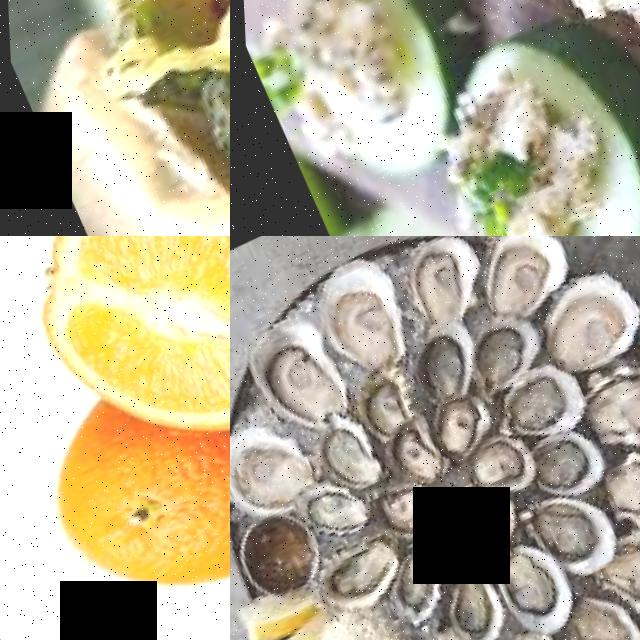orange: (0, 236, 230, 424), (37, 418, 230, 640)
oysters: (234, 305, 351, 442), (300, 252, 416, 388), (530, 260, 640, 384), (514, 479, 617, 601), (388, 236, 497, 335), (230, 421, 319, 534), (306, 531, 405, 626), (482, 540, 576, 640), (466, 236, 574, 322), (487, 365, 583, 459), (398, 318, 486, 411), (457, 312, 548, 398), (574, 355, 640, 471), (344, 359, 424, 448), (306, 415, 383, 504), (522, 429, 604, 510), (448, 482, 522, 566), (290, 477, 367, 553), (431, 565, 509, 640), (380, 421, 449, 500), (363, 477, 436, 551), (422, 396, 495, 469), (403, 518, 474, 591), (466, 436, 537, 508), (462, 436, 534, 507), (599, 448, 640, 560), (599, 535, 640, 638), (554, 595, 640, 640)
